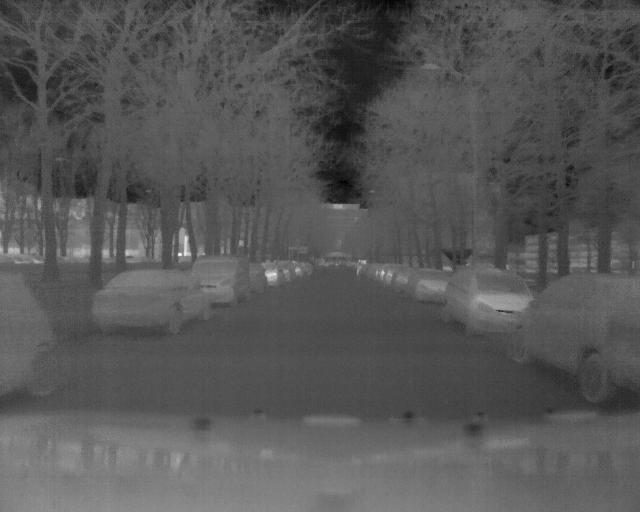car: (506, 267, 639, 398), (91, 270, 212, 332), (446, 262, 532, 342), (1, 272, 54, 401), (194, 252, 248, 306), (408, 267, 446, 302)
